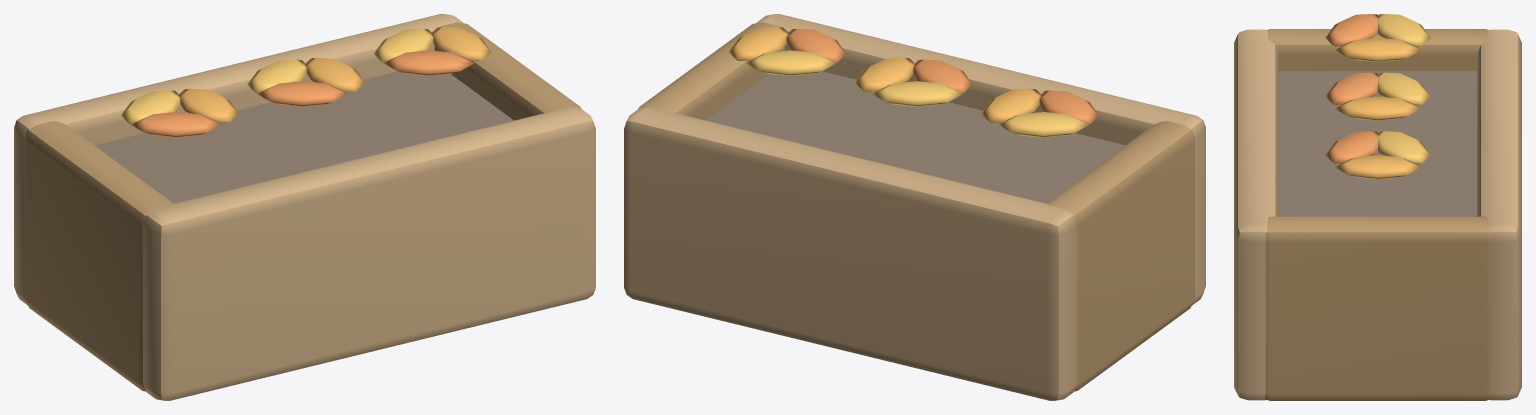
The model's file is planter_autumn_v1.glb.
3 views of the same model, side by side, from view 1: azimuth 30°, elevation 25°; view 2: azimuth 150°, elevation 25°; view 3: azimuth 270°, elevation 25° (orthographic). The views are drawn at different scales.
Parts seen in each view (by area): view 1: Base_PlanterWall (×2), Base_PlanterEnd (×2), Base_Soil, Season_LeafSprig (×3); view 2: Base_PlanterWall (×2), Base_PlanterEnd (×2), Base_Soil, Season_LeafSprig (×3); view 3: Base_PlanterEnd (×2), Base_PlanterWall (×2), Base_Soil, Season_LeafSprig (×3).
Boxes of the visible parts, x1,y1,x2,y2 form: Base_PlanterWall (×2): (14, 14, 595, 400); Base_PlanterEnd (×2): (25, 22, 581, 391); Base_Soil: (94, 71, 513, 203); Season_LeafSprig (×3): (121, 27, 490, 137); Base_PlanterWall (×2): (624, 14, 1205, 400); Base_PlanterEnd (×2): (638, 22, 1194, 391); Base_Soil: (706, 71, 1125, 203); Season_LeafSprig (×3): (729, 27, 1098, 137); Base_PlanterEnd (×2): (1265, 29, 1490, 400); Base_PlanterWall (×2): (1234, 29, 1521, 400); Base_Soil: (1279, 71, 1476, 216); Season_LeafSprig (×3): (1325, 14, 1430, 179).
Bounding box in the file's own units: 1.41 × 0.6825 × 0.83.
